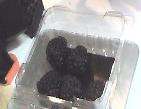berry: (47, 36, 70, 71), (66, 45, 87, 75), (37, 70, 61, 95), (60, 75, 82, 101), (85, 80, 105, 101)
